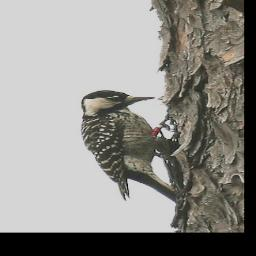Woodpecker: (81, 90, 185, 203)
